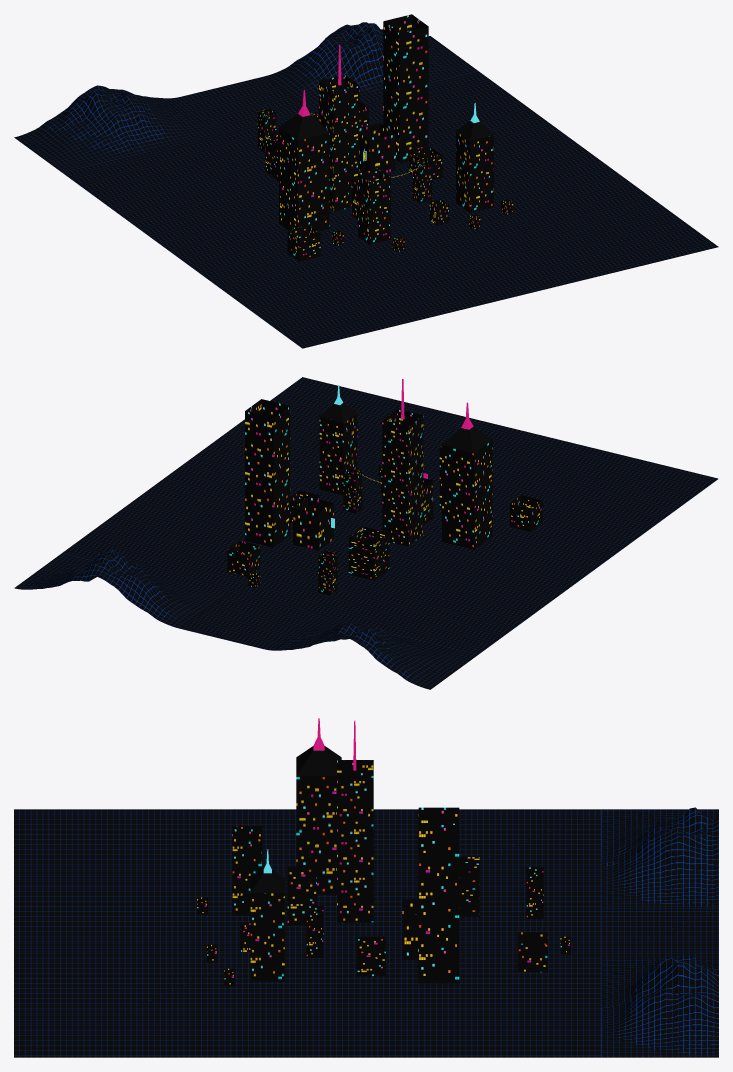
File: bgcity.dae
The picture shows the model from 3 angles, top to bottom: view 1: azimuth 30°, elevation 25°; view 2: azimuth 150°, elevation 25°; view 3: azimuth 270°, elevation 25°; orthographic projection. The views are drawn at different scales.
Parts seen in each view (by area): view 1: Plane, city, Landscape_1; view 2: Plane, city, Landscape_1; view 3: Plane, city, Landscape_1.
Part boxes in pixels (x1,y1,x2,y2): Plane: (62, 71, 718, 348); city: (257, 14, 513, 261); Landscape_1: (14, 22, 477, 172); Plane: (62, 377, 718, 654); city: (227, 379, 542, 595); Landscape_1: (14, 550, 477, 689); Plane: (14, 809, 601, 1057); city: (197, 718, 571, 986); Landscape_1: (601, 807, 718, 1057).
Size of the model in its own units: 100 by 120 by 36.39.
